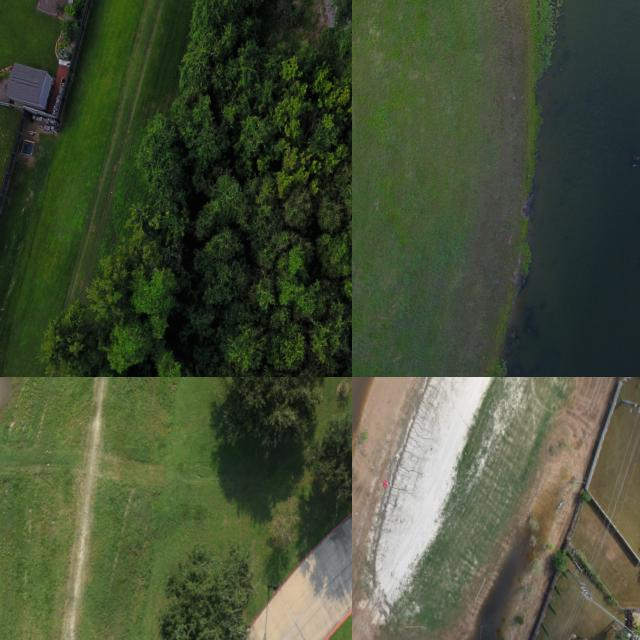fire: (501, 0, 640, 377), (324, 0, 335, 25)
